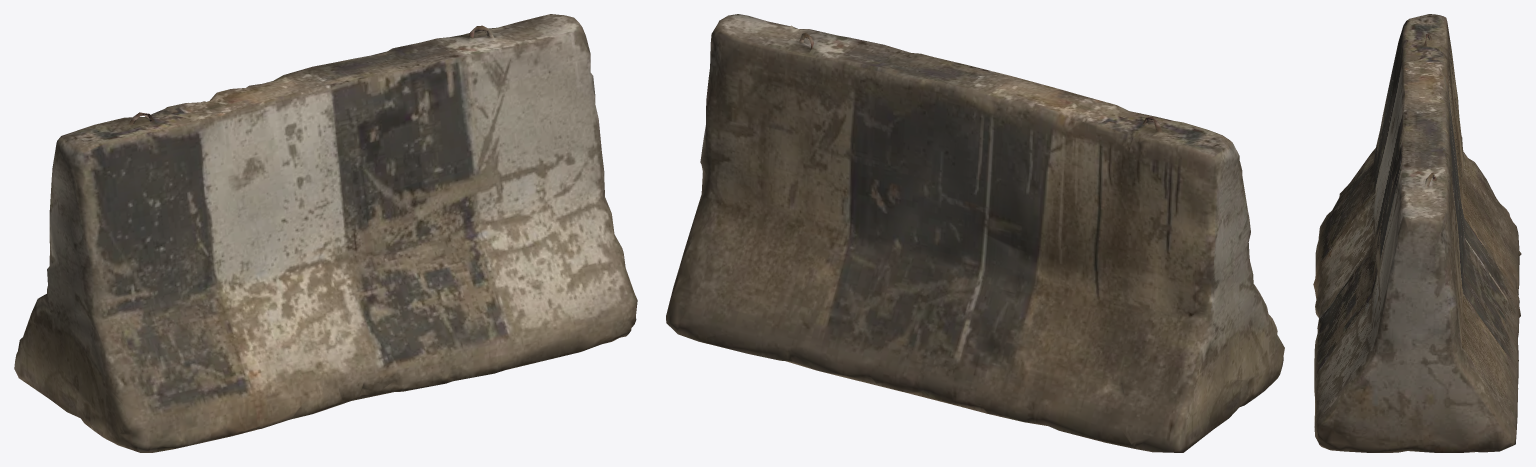
File: concrete_road_barrier.glb
3 views of the same model, side by side, from view 1: azimuth 30°, elevation 25°; view 2: azimuth 150°, elevation 25°; view 3: azimuth 270°, elevation 25° (orthographic). The views are drawn at different scales.
Visible parts, largest first — view 1: concrete_road_barrier; view 2: concrete_road_barrier; view 3: concrete_road_barrier.
Part boxes in pixels (box(x1,y1,x2,y2)): concrete_road_barrier: box(14, 14, 637, 452); concrete_road_barrier: box(666, 14, 1284, 452); concrete_road_barrier: box(1313, 14, 1521, 452).
Bounding box in the file's own units: 1.54 × 0.8304 × 0.6387.
Materials: 1 (1 with a texture image).
